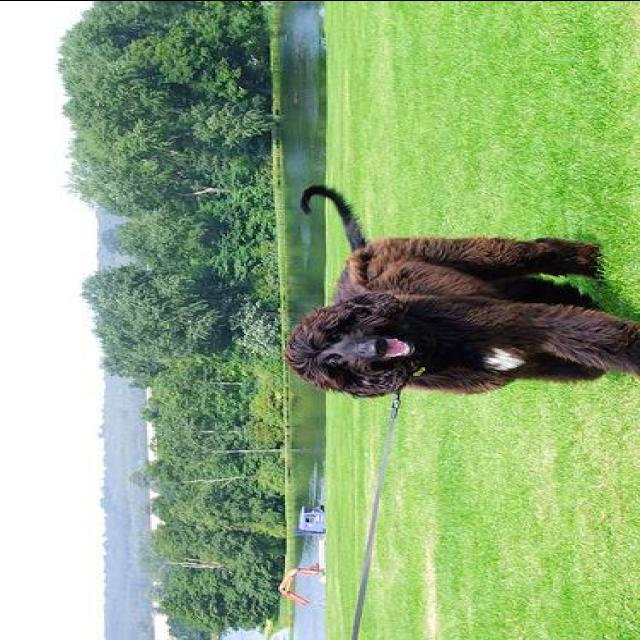afghan_hound: (286, 184, 638, 394)
